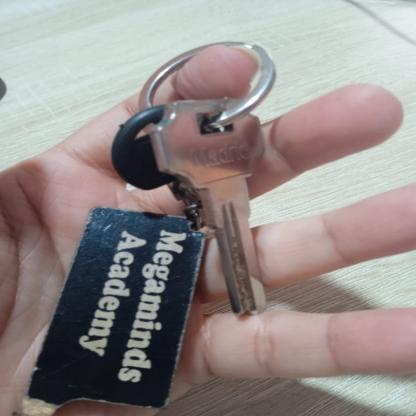key: (172, 101, 281, 308), (137, 107, 205, 224)
